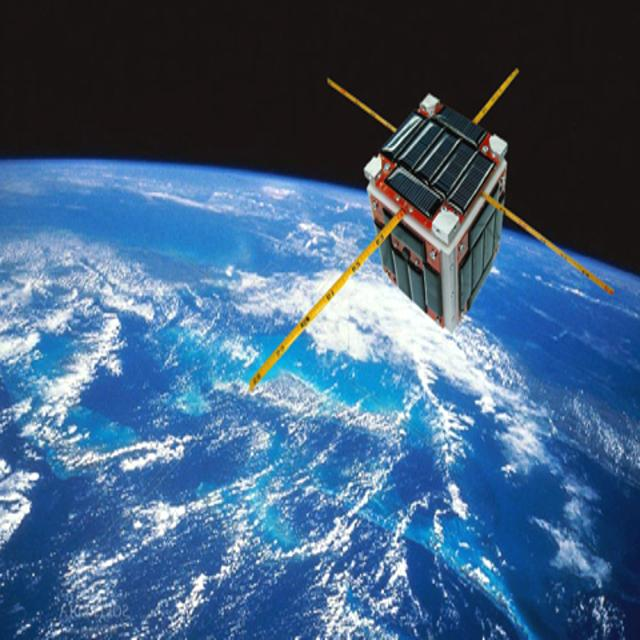satellite: (232, 48, 626, 421)
